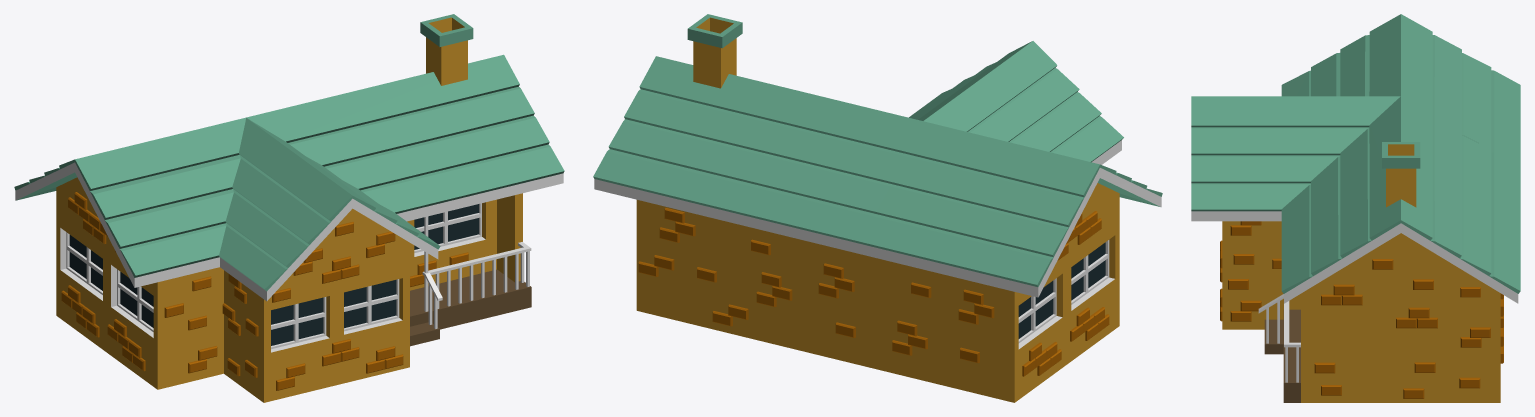
Rendered from 20 House_1.fbx.
3 renders of one model, left to right at view 1: azimuth 30°, elevation 25°; view 2: azimuth 150°, elevation 25°; view 3: azimuth 270°, elevation 25°, orthographic. The views are drawn at different scales.
Visible parts, largest first — view 1: House_1; view 2: House_1; view 3: House_1.
Boxes of the visible parts, x1,y1,x2,y2 form: House_1: (14, 14, 564, 402); House_1: (593, 14, 1162, 402); House_1: (1191, 14, 1520, 402).
Bounding box in the file's own units: 244 × 133 × 165.
